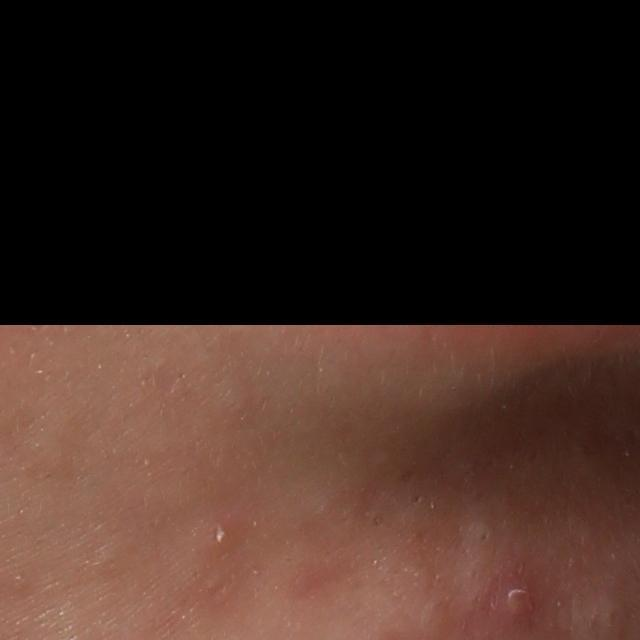comedo: (475, 526, 497, 545)
pustule: (207, 524, 233, 550)
